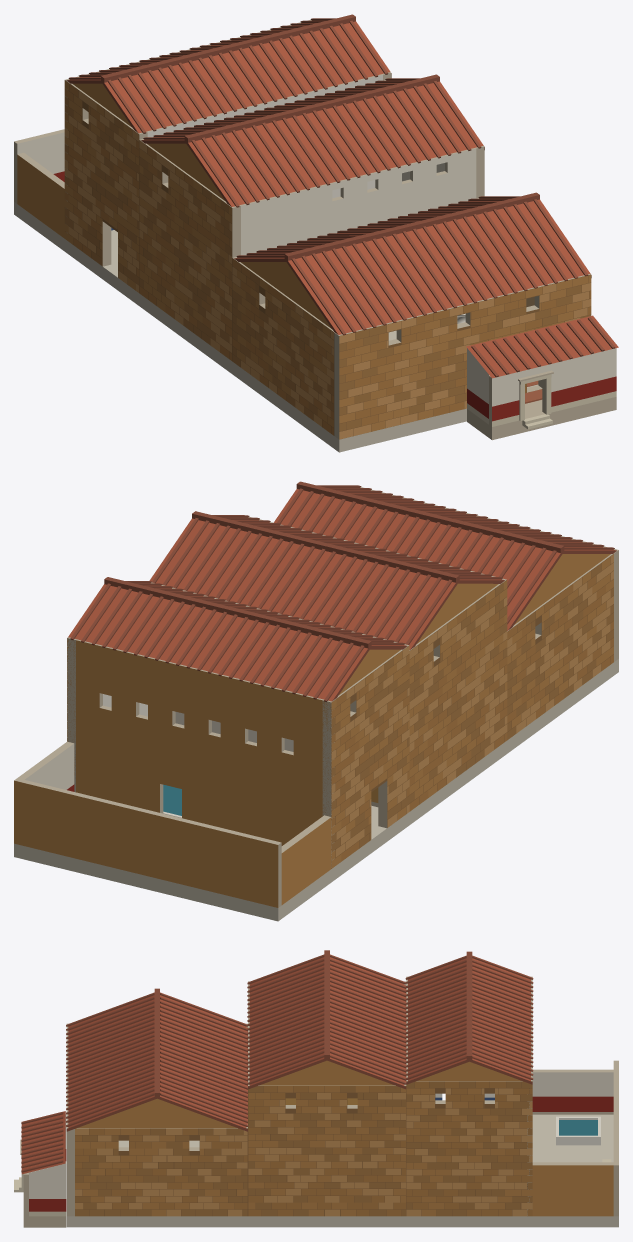
The model's file is rome_domus_m_bath.glb.
3 renders of one model, top to bottom at view 1: azimuth 30°, elevation 25°; view 2: azimuth 150°, elevation 25°; view 3: azimuth 270°, elevation 25°, orthographic. The views are drawn at different scales.
Visible parts, largest first — view 1: rome_domus_m_bath; view 2: rome_domus_m_bath; view 3: rome_domus_m_bath.
Part boxes in pixels (x1,y1,x2,y2): rome_domus_m_bath: (14,14,618,452); rome_domus_m_bath: (14,481,618,921); rome_domus_m_bath: (14,950,618,1227).
Bounding box in the file's own units: 15.91 × 12.2 × 38.73.
